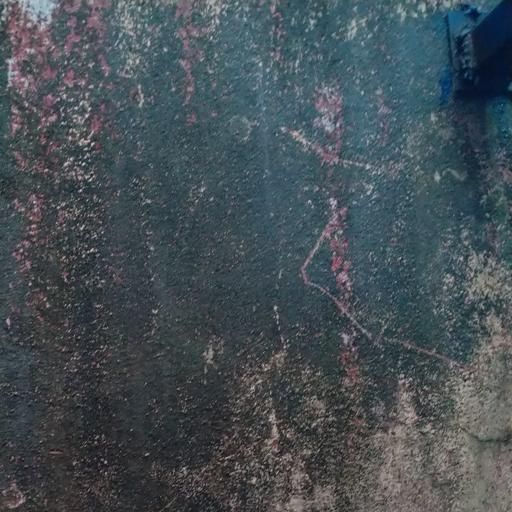algae: (3, 10, 512, 499)
